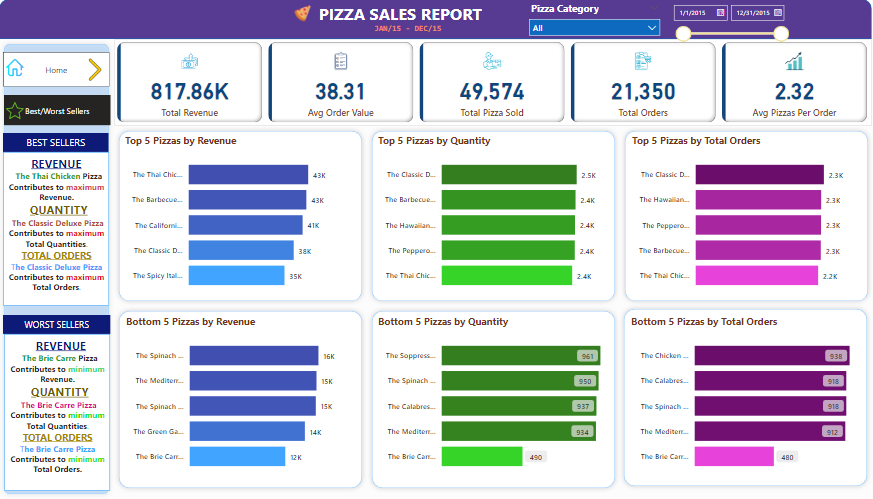

The page's visual inventory and layout, read from the dashboard file:
{"tool":"powerbi","page":{"name":"Best/Worst Sellers","canvas":[1500,820],"ordinal":1},"visuals":[{"type":"cardVisual","fields":{"Data":["pizza_sales.Total_Revenue","pizza_sales.Average Order Value","pizza_sales.Total Pizza Sold","pizza_sales.Total Orders","pizza_sales.Average Pizzas Per Order"]},"box":[231.4,65.7,1242.9,142.9],"z":0},{"type":"shape","box":[42.9,0,1431.4,65.7],"z":1000},{"type":"textbox","box":[540,0,322.9,52.9],"z":2000},{"type":"textbox","box":[642.9,32.9,140,40],"z":3000},{"type":"image","box":[514.3,5.7,51.4,37.1],"z":4000},{"type":"shape","box":[231.1,208.2,414.8,295.1],"z":5000},{"type":"shape","box":[42.9,65.7,188.6,754.3],"z":7000},{"type":"textbox","box":[49.2,219.7,173,31.1],"z":16000},{"type":"textbox","box":[49.2,250.8,173.8,252.5],"z":17000},{"type":"textbox","box":[48.6,518.6,175.7,31.4],"z":18000},{"type":"textbox","box":[50.8,549.4,173.8,257.5],"z":19000},{"type":"slicer","fields":{"Values":["pizza_sales.pizza_category"]},"box":[902,0,234.5,65.6],"z":20000},{"type":"slicer","fields":{"Values":["pizza_sales.order_date"]},"box":[1136.1,0,209.8,70.5],"z":21000},{"type":"shape","box":[645.9,208.2,414.8,295.1],"z":21001},{"type":"shape","box":[1060.7,208.2,414.8,295.1],"z":21002},{"type":"shape","box":[231.1,503.3,414.8,306.6],"z":21003},{"type":"shape","box":[645.9,503.3,414.8,306.6],"z":21004},{"type":"shape","box":[1059,500,414.8,306.6],"z":21005},{"type":"barChart","title":"Top 5 Pizzas by Revenue","fields":{"Category":["pizza_sales.pizza_name"],"Y":["pizza_sales.Total Revenue"]},"box":[244.3,221.3,385.2,270.5],"z":21006},{"type":"barChart","title":"Bottom 5 Pizzas by Revenue","fields":{"Category":["pizza_sales.pizza_name"],"Y":["pizza_sales.Total Revenue"]},"box":[245.9,518,385.2,270.5],"z":21007},{"type":"barChart","title":"Top 5 Pizzas by Quantity","fields":{"Category":["pizza_sales.pizza_name"],"Y":["pizza_sales.Total Pizza Sold"]},"box":[659,221.3,385.2,270.5],"z":21008},{"type":"barChart","title":"Bottom 5 Pizzas by Quantity","fields":{"Category":["pizza_sales.pizza_name"],"Y":["pizza_sales.Total Pizza Sold"]},"box":[659,518,385.2,270.5],"z":21009},{"type":"barChart","title":"Top 5 Pizzas by Total Orders","fields":{"Category":["pizza_sales.pizza_name"],"Y":["pizza_sales.Total Orders"]},"box":[1075.4,221.3,385.2,270.5],"z":21010},{"type":"barChart","title":"Bottom 5 Pizzas by Total Orders","fields":{"Category":["pizza_sales.pizza_name"],"Y":["pizza_sales.Total Orders"]},"box":[1073.8,518,385.2,270.5],"z":21011},{"type":"image","box":[185.2,86.9,37.7,50.8],"z":21012},{"type":"pageNavigator","box":[49.2,86.9,175.4,57],"z":21013},{"type":"pageNavigator","box":[50.8,157.4,175.4,50.8],"z":21014},{"type":"image","box":[177,86.9,45.9,57.4],"z":21015},{"type":"image","box":[49.2,86.9,39.3,50.8],"z":21016},{"type":"image","box":[49.2,157.4,39.3,50.8],"z":21017}]}

Visuals, with their boxes on the page's 1500x820 design canvas (x1, y1, x2, y2). These are canvas units, not pixel positions in the 873x499 screenshot, which may show the page scaled, cropped or inside an application window:
cardVisual - pizza_sales.Total_Revenue x pizza_sales.Average Order Value: [x1=231, y1=66, x2=1474, y2=209]
shape: [x1=43, y1=0, x2=1474, y2=66]
textbox: [x1=540, y1=0, x2=863, y2=53]
textbox: [x1=643, y1=33, x2=783, y2=73]
image: [x1=514, y1=6, x2=566, y2=43]
shape: [x1=231, y1=208, x2=646, y2=503]
shape: [x1=43, y1=66, x2=232, y2=820]
textbox: [x1=49, y1=220, x2=222, y2=251]
textbox: [x1=49, y1=251, x2=223, y2=503]
textbox: [x1=49, y1=519, x2=224, y2=550]
textbox: [x1=51, y1=549, x2=225, y2=807]
slicer - pizza_sales.pizza_category: [x1=902, y1=0, x2=1136, y2=66]
slicer - pizza_sales.order_date: [x1=1136, y1=0, x2=1346, y2=70]
shape: [x1=646, y1=208, x2=1061, y2=503]
shape: [x1=1061, y1=208, x2=1476, y2=503]
shape: [x1=231, y1=503, x2=646, y2=810]
shape: [x1=646, y1=503, x2=1061, y2=810]
shape: [x1=1059, y1=500, x2=1474, y2=807]
"Top 5 Pizzas by Revenue" barChart: [x1=244, y1=221, x2=630, y2=492]
"Bottom 5 Pizzas by Revenue" barChart: [x1=246, y1=518, x2=631, y2=788]
"Top 5 Pizzas by Quantity" barChart: [x1=659, y1=221, x2=1044, y2=492]
"Bottom 5 Pizzas by Quantity" barChart: [x1=659, y1=518, x2=1044, y2=788]
"Top 5 Pizzas by Total Orders" barChart: [x1=1075, y1=221, x2=1461, y2=492]
"Bottom 5 Pizzas by Total Orders" barChart: [x1=1074, y1=518, x2=1459, y2=788]
image: [x1=185, y1=87, x2=223, y2=138]
pageNavigator: [x1=49, y1=87, x2=225, y2=144]
pageNavigator: [x1=51, y1=157, x2=226, y2=208]
image: [x1=177, y1=87, x2=223, y2=144]
image: [x1=49, y1=87, x2=88, y2=138]
image: [x1=49, y1=157, x2=88, y2=208]
